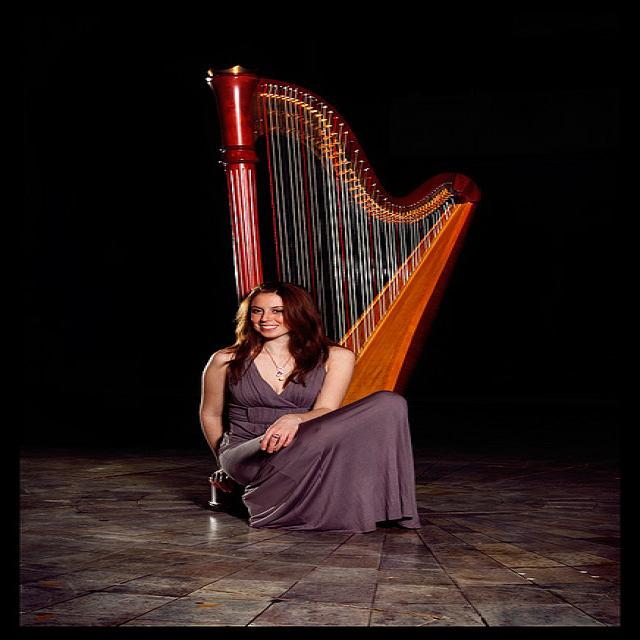harp: (211, 60, 479, 413)
